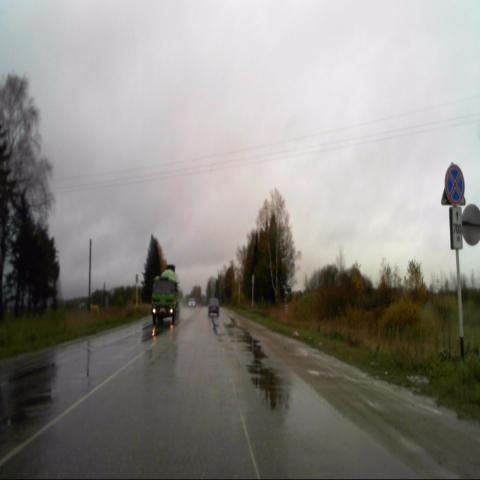8_2_2: (452, 205, 463, 249)
